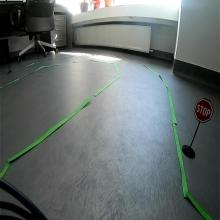stop: (194, 97, 213, 124)
